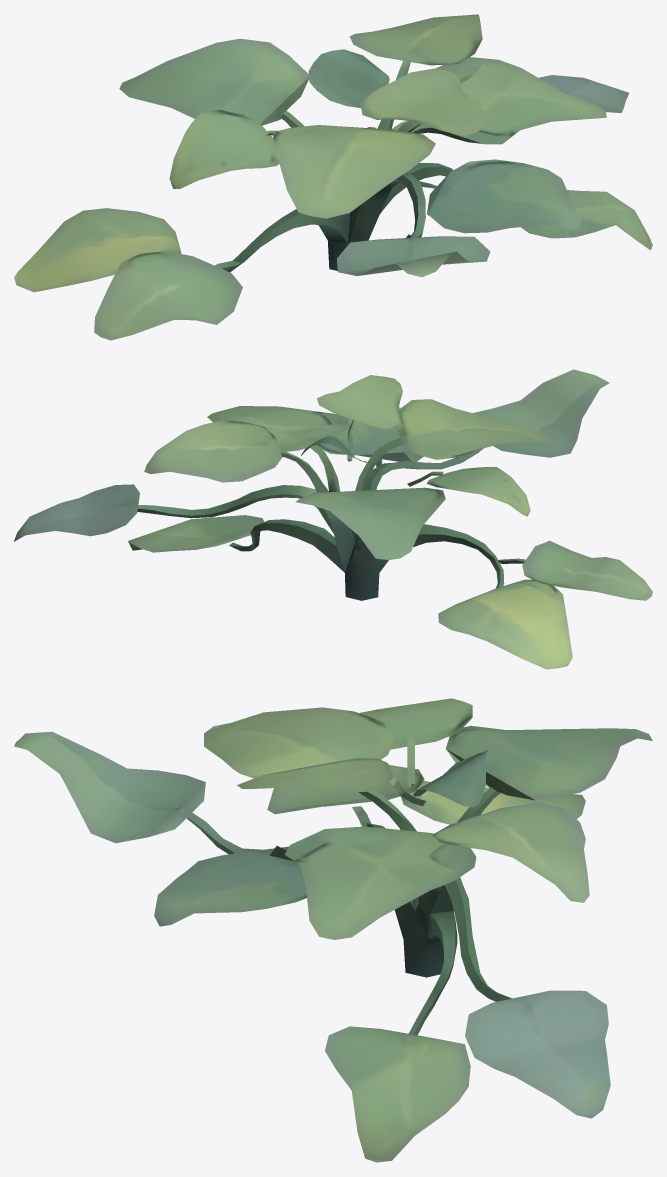
File: SM_Ivy_03.fbx
The picture shows the model from 3 angles, top to bottom: view 1: azimuth 30°, elevation 25°; view 2: azimuth 150°, elevation 25°; view 3: azimuth 270°, elevation 25°; orthographic projection. The views are drawn at different scales.
Parts seen in each view (by area): view 1: SM_Ivy_03; view 2: SM_Ivy_03; view 3: SM_Ivy_03.
Boxes of the visible parts, left/top/right/bottom form: SM_Ivy_03: left=14, top=14, right=652, bottom=340; SM_Ivy_03: left=14, top=369, right=652, bottom=669; SM_Ivy_03: left=14, top=698, right=652, bottom=1162.
Bounding box in the file's own units: 72.61 × 24.65 × 55.46.
1 material, 1 textured.
